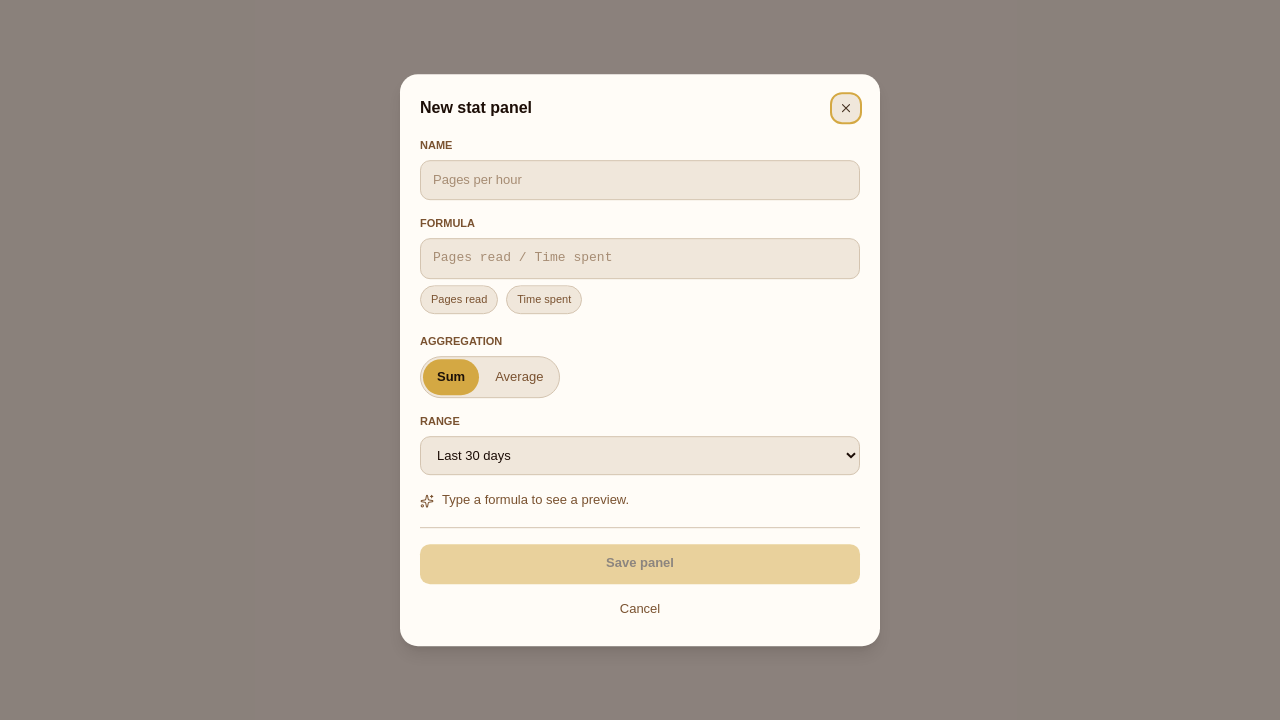
Test: StatPanelBuilderDialog › shows the server message inline for an invalid formula and keeps Save disabled
Type "Broken" into the field labelled "Name" at (640,180), box [420,160,860,200]
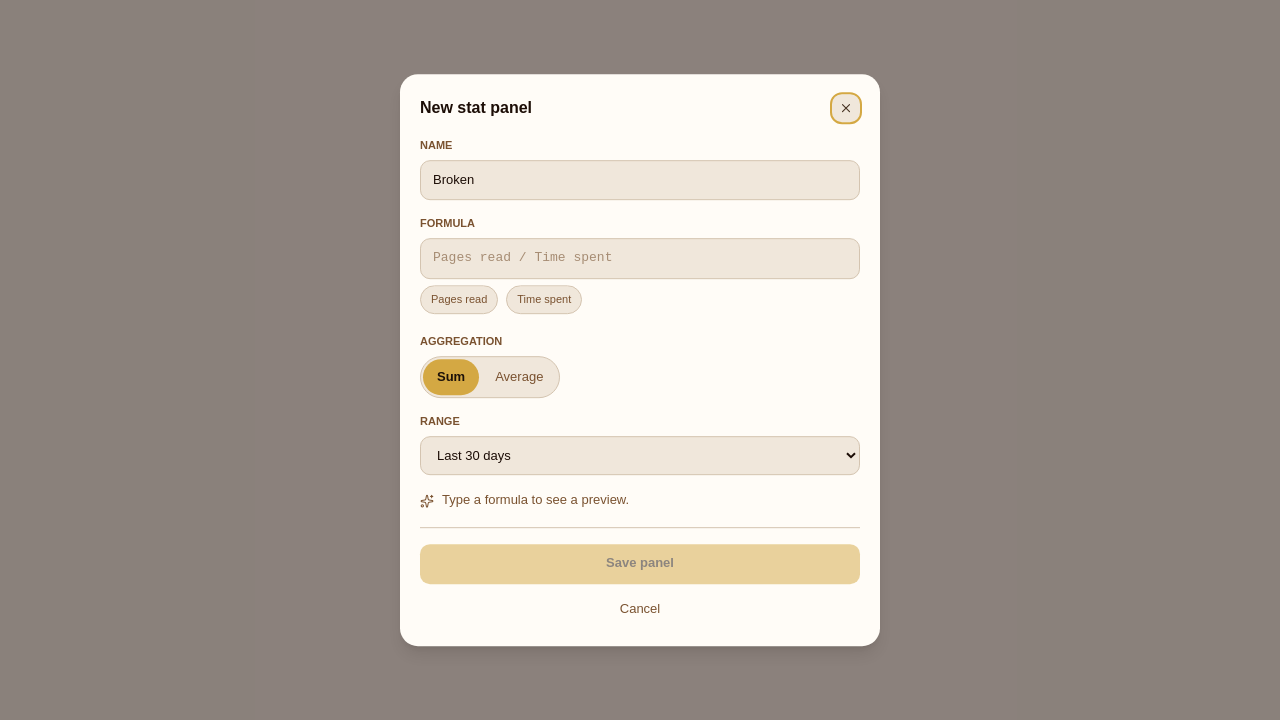
Type "Moood * 2" into the field labelled "Formula" at (640,258), box [420,238,860,279]
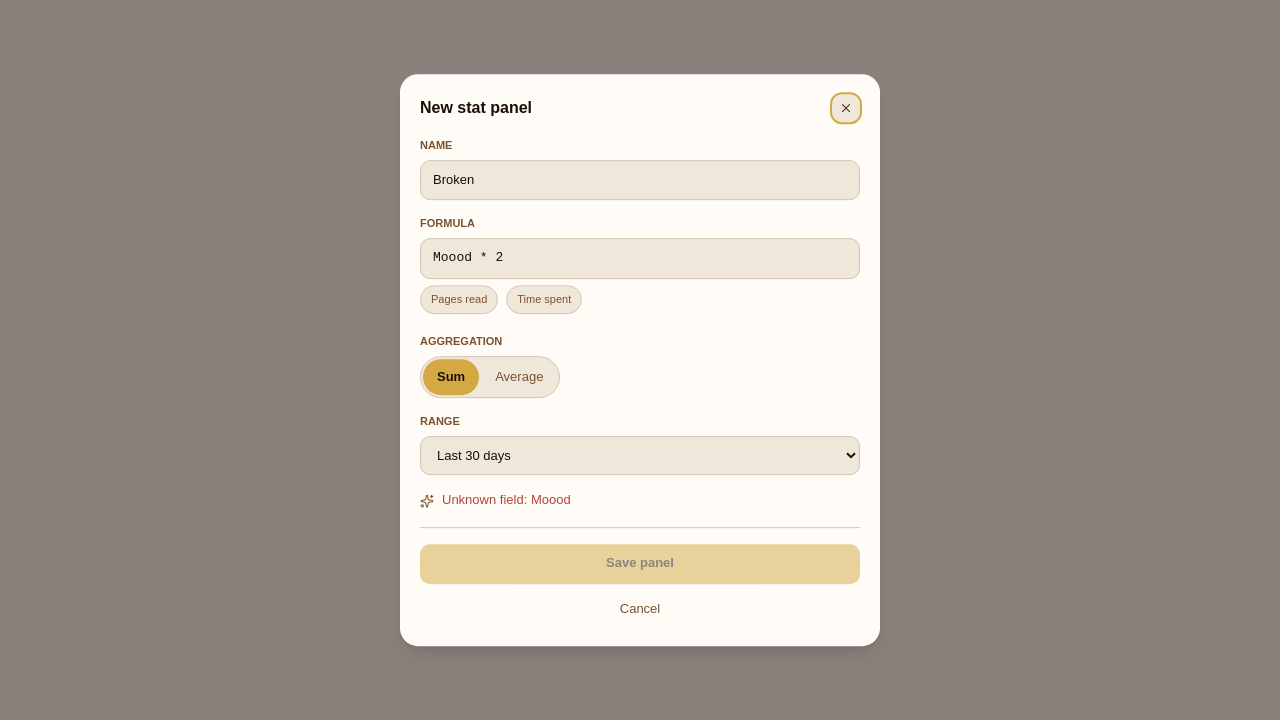
Expected: the button "Save panel" is disabled, [420,544,860,584]
Result: the message reads "Unknown field: Moood" at [442,492,571,508]
